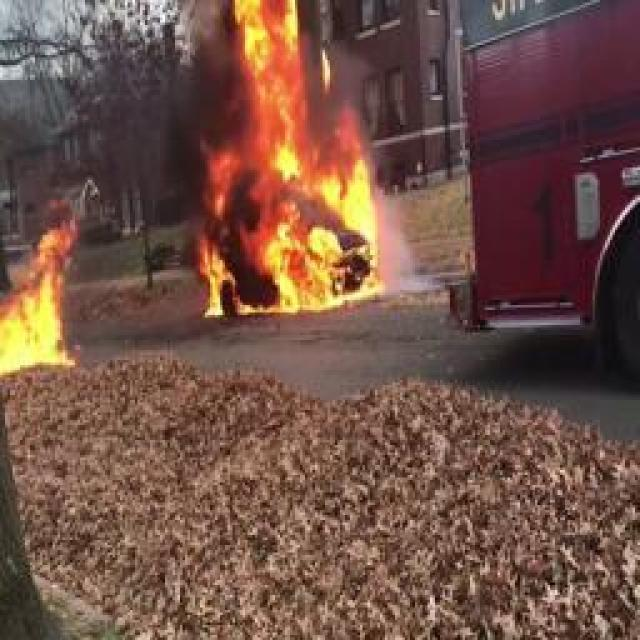Fire: (252, 191, 403, 316), (225, 0, 325, 128), (0, 275, 74, 383), (5, 192, 87, 277), (200, 243, 233, 321), (276, 145, 301, 184)
Smoke: (117, 45, 217, 197)
